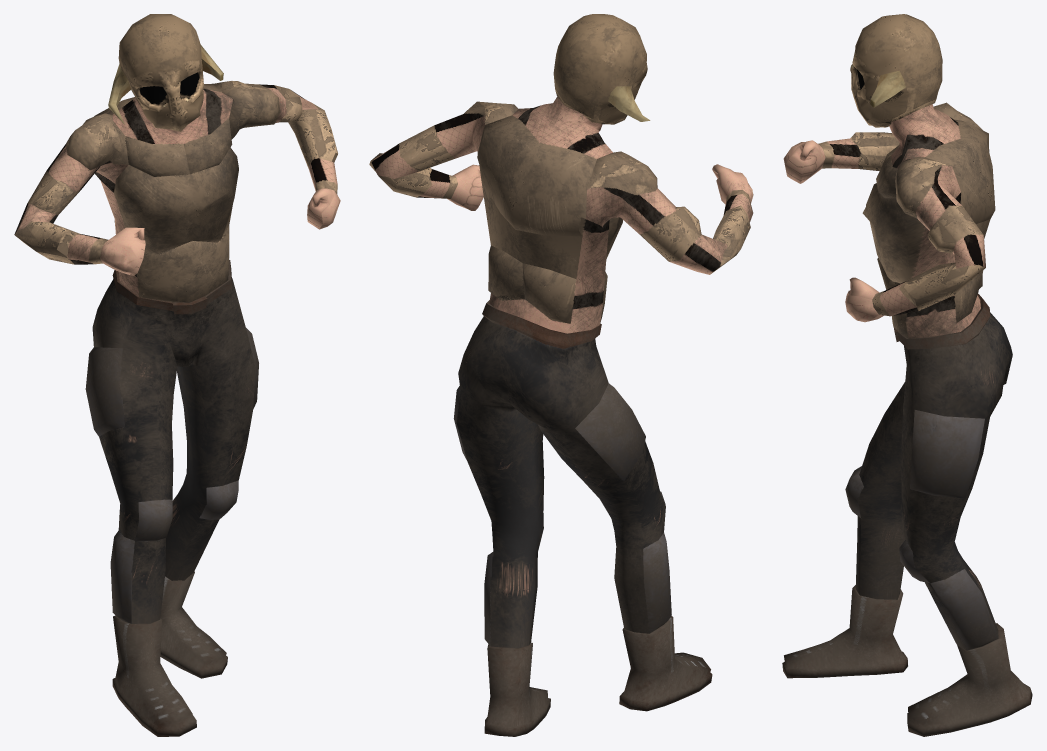
Rendered from Anim_ataque_d3_npc1.0030.obj.
3 views of the same model, side by side, from view 1: azimuth 30°, elevation 25°; view 2: azimuth 150°, elevation 25°; view 3: azimuth 270°, elevation 25° (orthographic). The views are drawn at different scales.
Visible parts, largest first — view 1: NPC2; view 2: NPC2; view 3: NPC2.
Part boxes in pixels (left/top/right/bottom): NPC2: left=14, top=14, right=340, bottom=736; NPC2: left=369, top=14, right=753, bottom=736; NPC2: left=782, top=14, right=1032, bottom=736.
Size of the model in its own units: 4.74 by 9.4 by 3.13.
